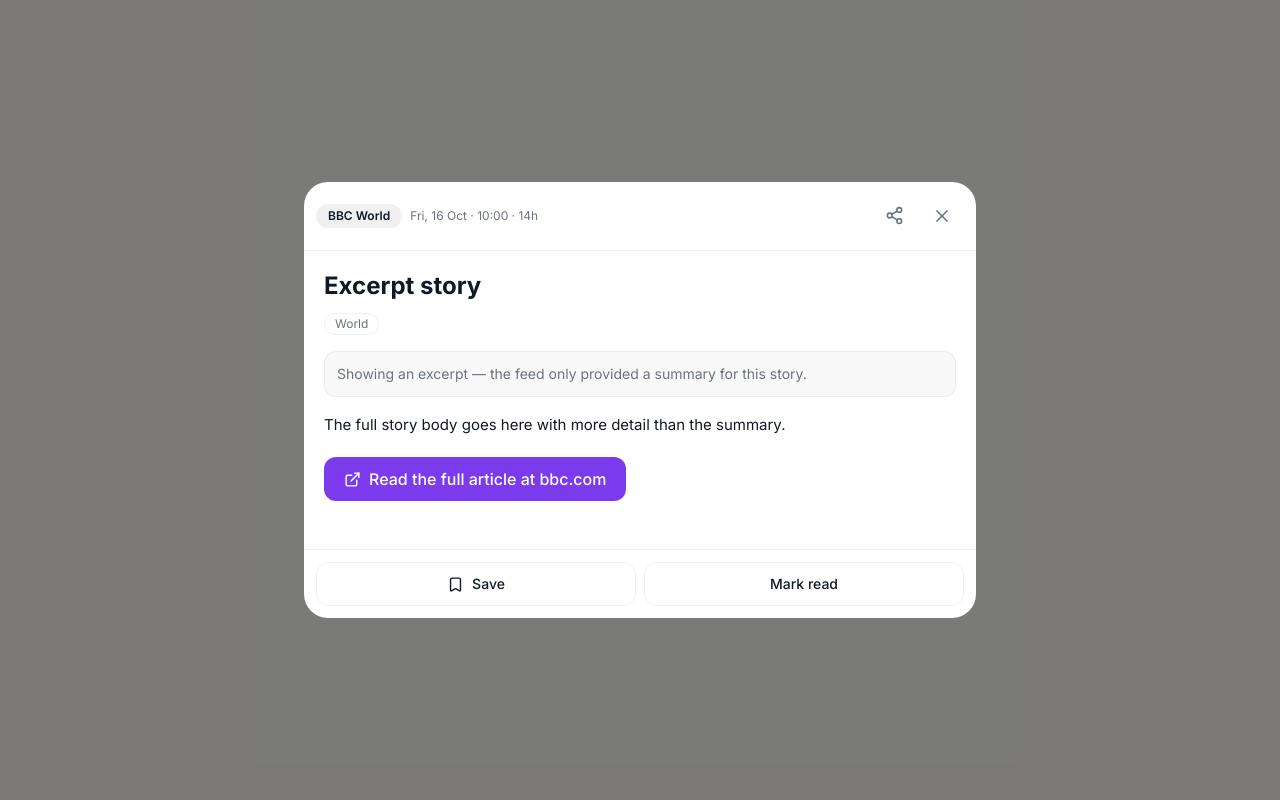
it: ArticleView › falls back to clipboard with an aria-live confirmation when share is missing
This screenshot has width=1280, height=800.
Click the button named "Share story" at (894,216), box [872,194,916,238]
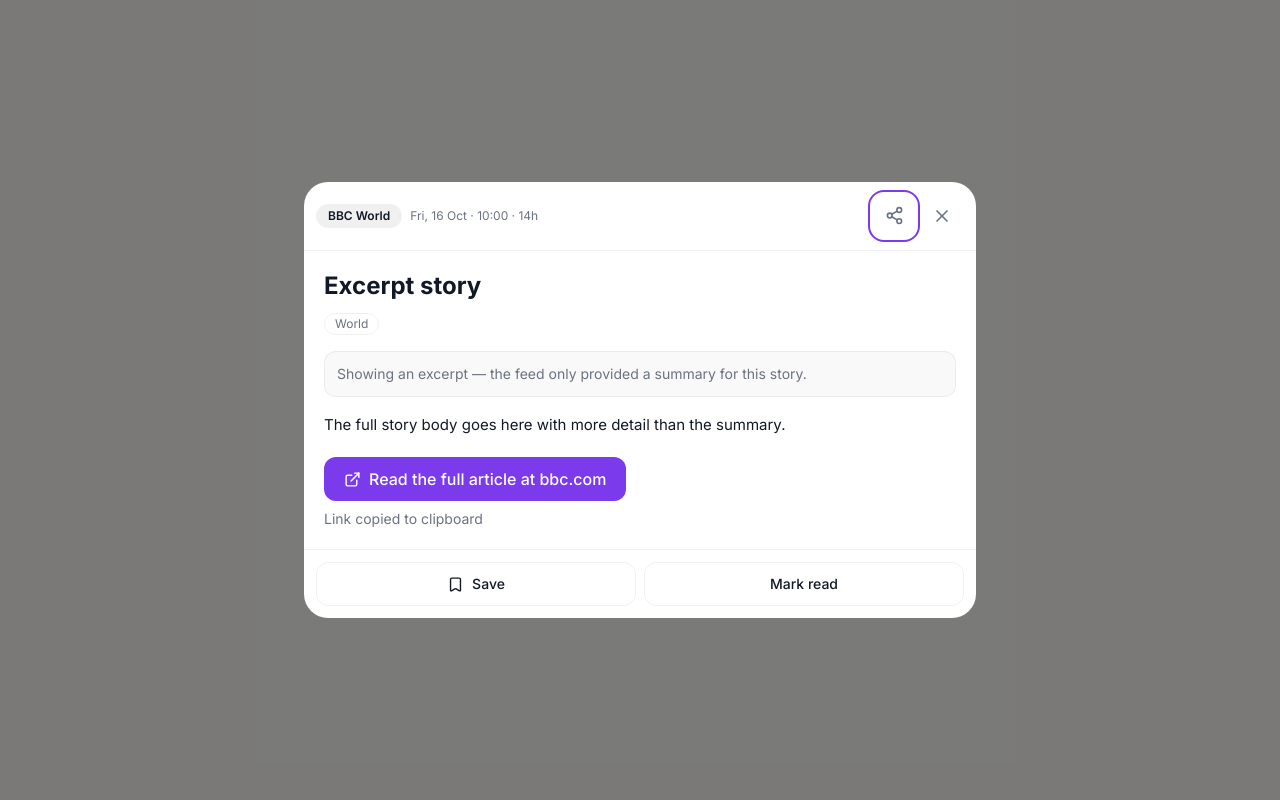
Expected: the text "Link copied to clipboard" is shown, [324,510,483,527]
